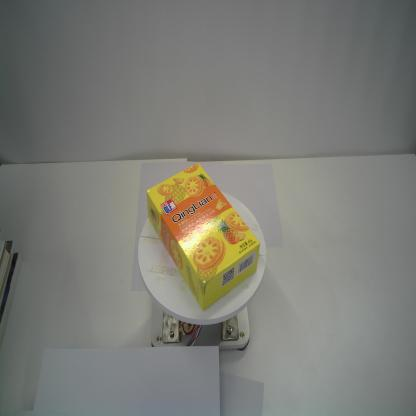Dessert: (145, 162, 261, 312)
